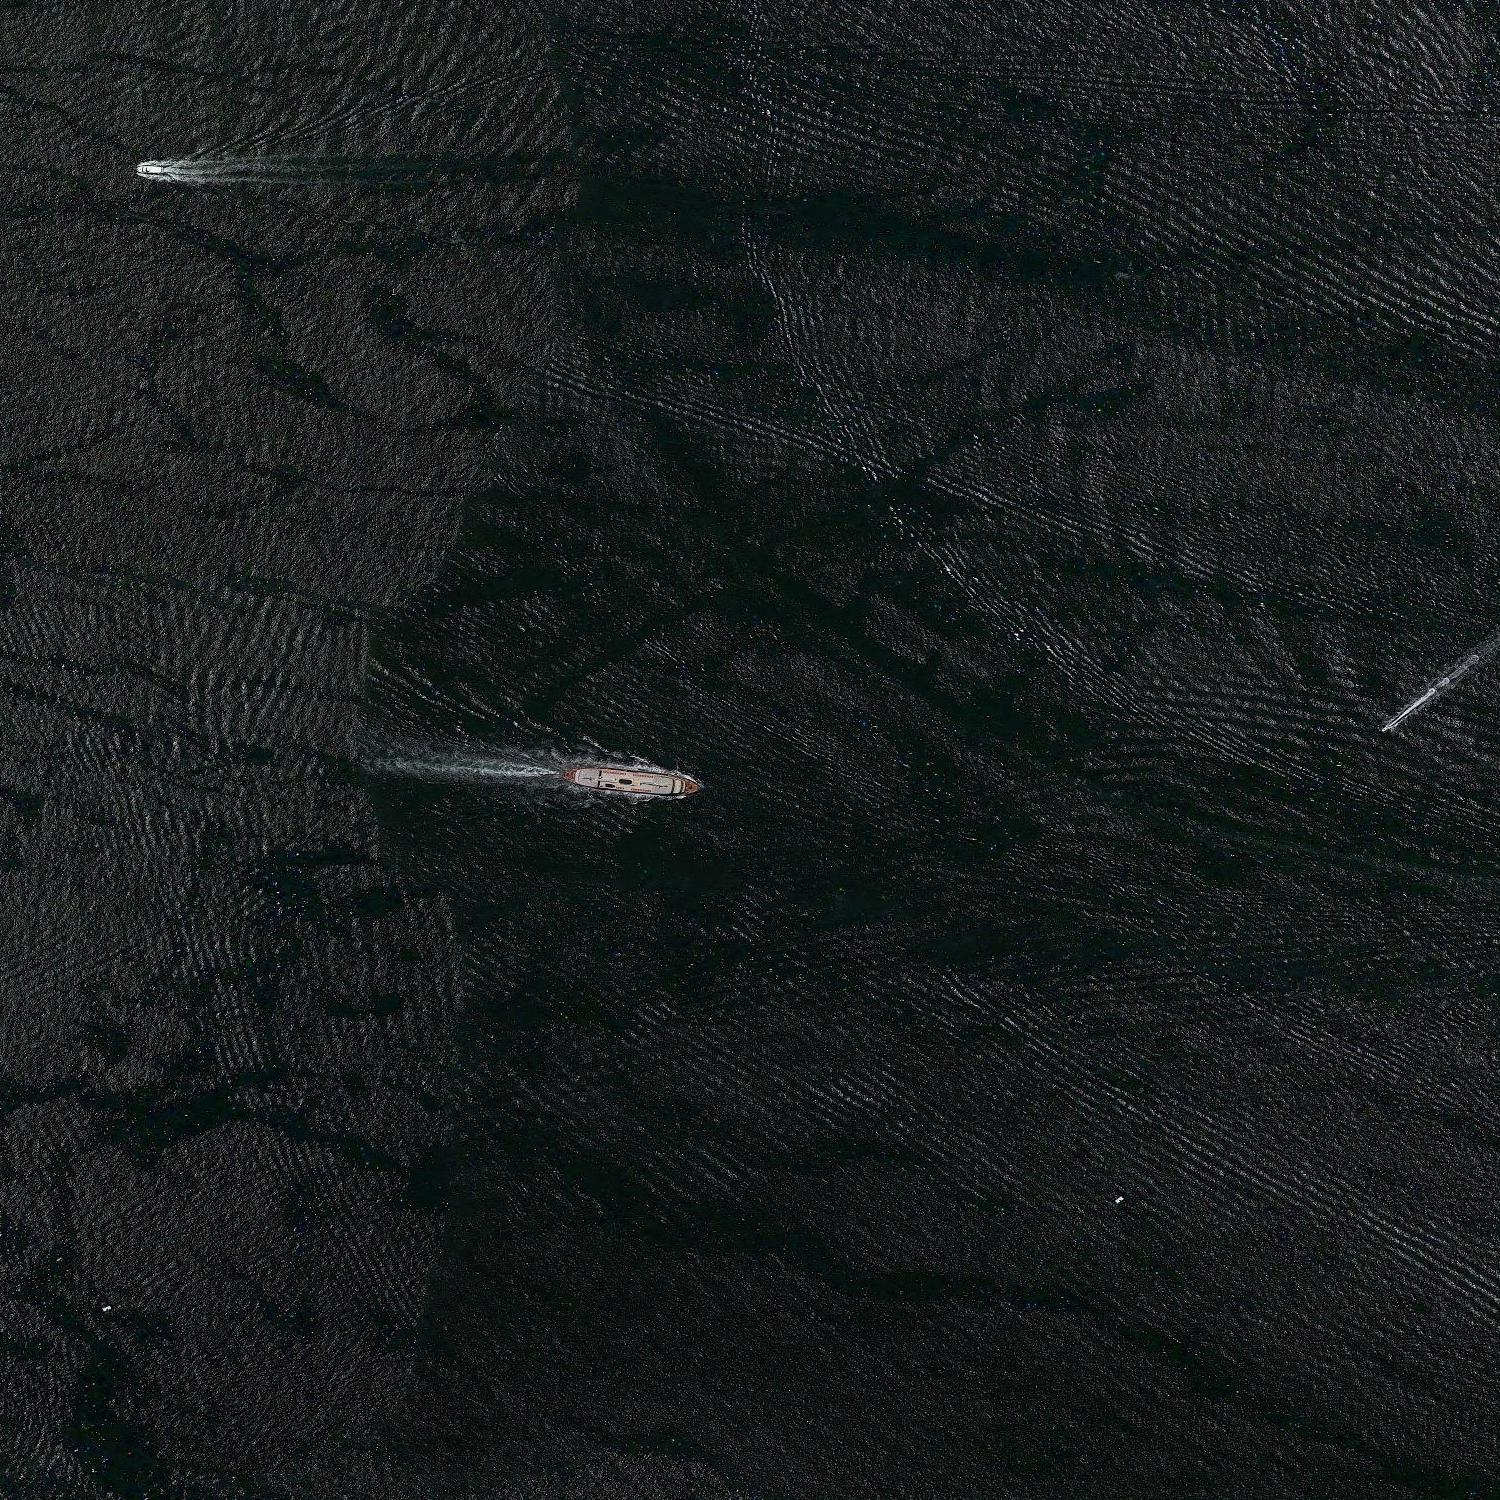A19: (435, 352, 534, 478), (130, 364, 227, 492), (337, 356, 431, 481), (237, 358, 330, 486), (30, 367, 121, 495), (542, 354, 633, 475)
